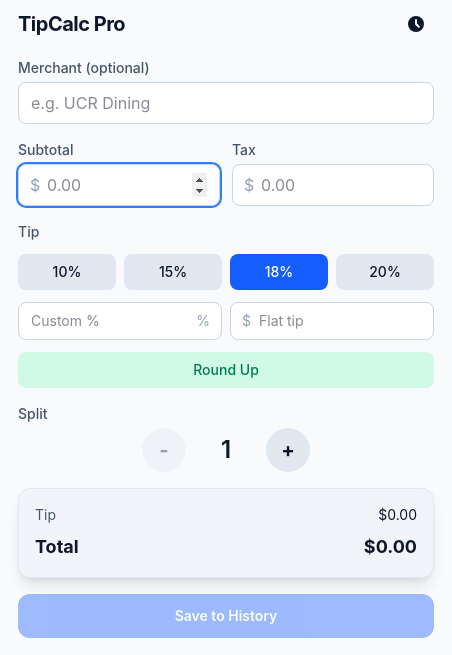
App › switches tip presets
The width and height of the screenshot is (452, 655).
In the number field labelled "Subtotal": (119, 185) [18, 164, 220, 206], type "100"
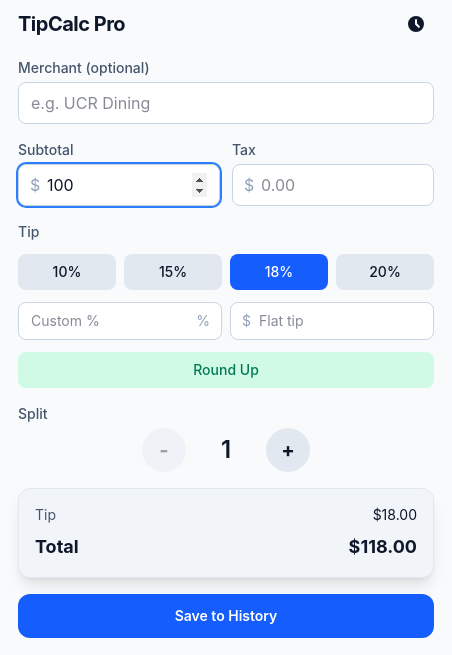
Click the button "20%": (385, 272) [336, 254, 434, 290]
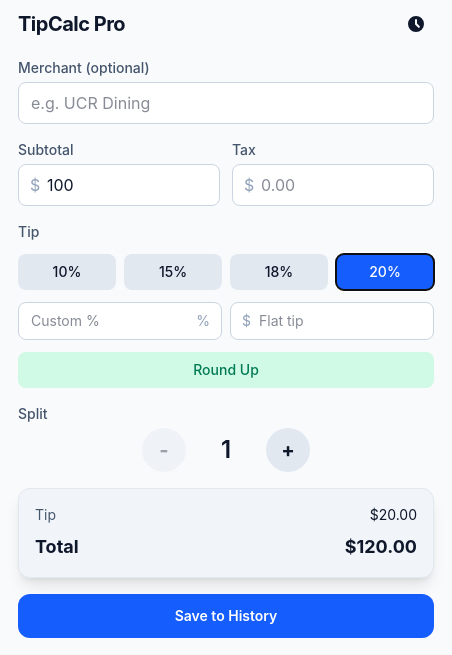
Check: the text "$20.00" is shown, box [370, 505, 417, 525]
